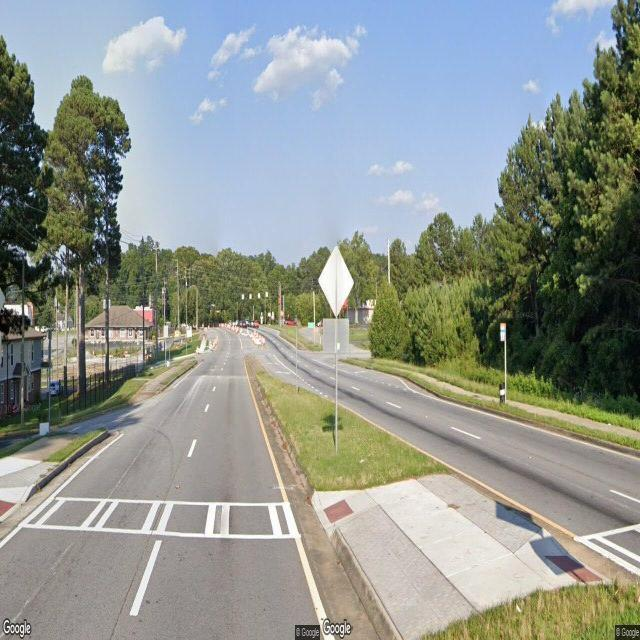trash_can: (499, 382, 505, 403)
